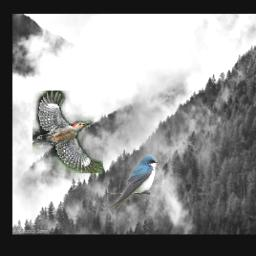Swallow: (110, 155, 158, 209)
Woodpecker: (32, 91, 103, 173)
